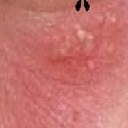Herpes Virus: (57, 16, 101, 67)
